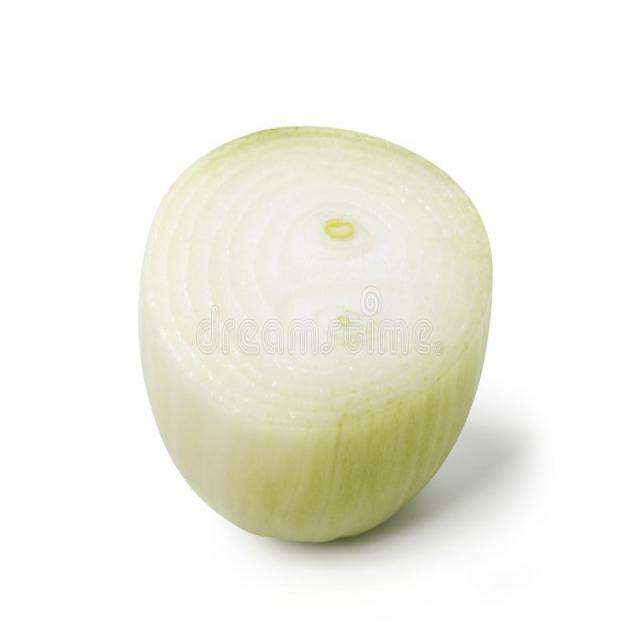onion: (136, 115, 496, 554)
